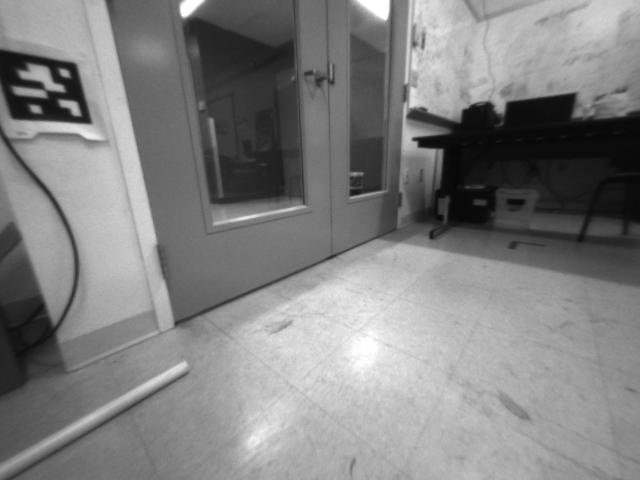door_handle: (297, 63, 330, 90)
